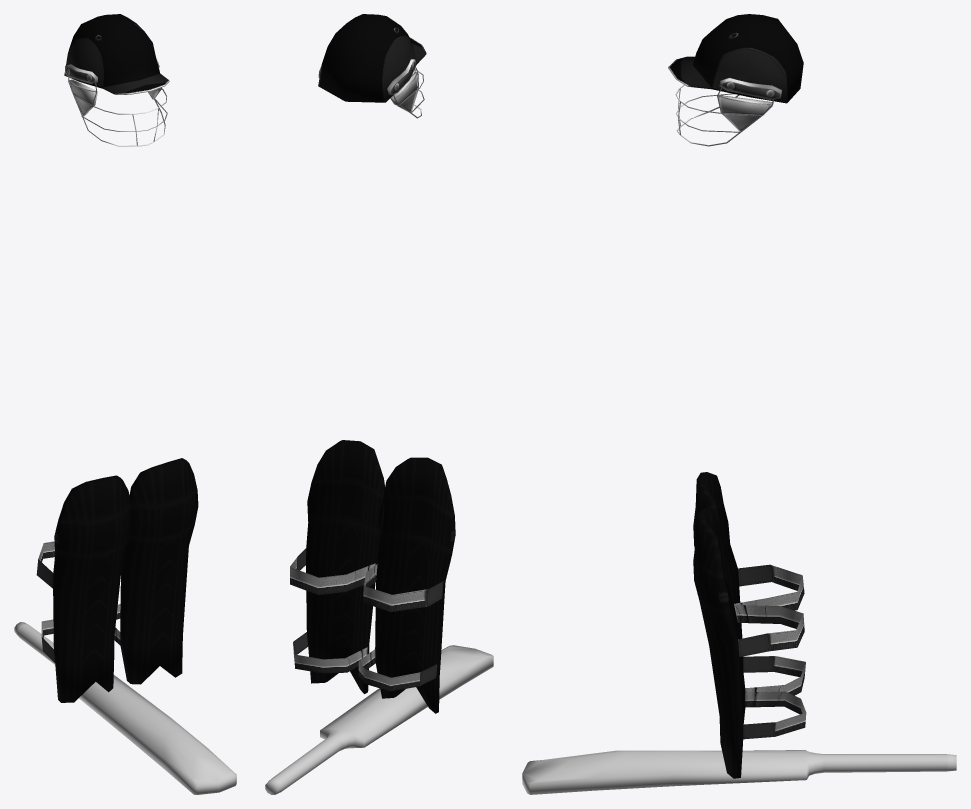
Rendered from CricketerKit.fbx.
The picture shows the model from 3 angles, left to right: view 1: azimuth 30°, elevation 25°; view 2: azimuth 150°, elevation 25°; view 3: azimuth 270°, elevation 25°; orthographic projection. The views are drawn at different scales.
Visible parts, largest first — view 1: geo_Pads_R, geo_Pads_L, geo_Bat, geo_HelmetCap, geo_HelmetGrid; view 2: geo_Pads_R, geo_Pads_L, geo_Bat, geo_HelmetCap, geo_HelmetGrid; view 3: geo_Bat, geo_Pads_L, geo_HelmetCap, geo_Pads_R, geo_HelmetGrid.
Part boxes in pixels (<box>): geo_Pads_R: <box>36,475,131,702</box>; geo_Pads_L: <box>114,458,198,684</box>; geo_Bat: <box>14,622,236,794</box>; geo_HelmetCap: <box>64,14,169,94</box>; geo_HelmetGrid: <box>65,57,167,146</box>; geo_Pads_R: <box>358,457,455,713</box>; geo_Pads_L: <box>290,440,384,693</box>; geo_Bat: <box>265,645,493,794</box>; geo_HelmetCap: <box>318,14,426,102</box>; geo_HelmetGrid: <box>318,59,424,118</box>; geo_Bat: <box>522,750,956,794</box>; geo_Pads_L: <box>693,508,806,778</box>; geo_HelmetCap: <box>668,14,803,103</box>; geo_Pads_R: <box>693,472,805,695</box>; geo_HelmetGrid: <box>675,78,781,146</box>.
Bounding box in the file's own units: 38.15 × 182 × 93.7.
